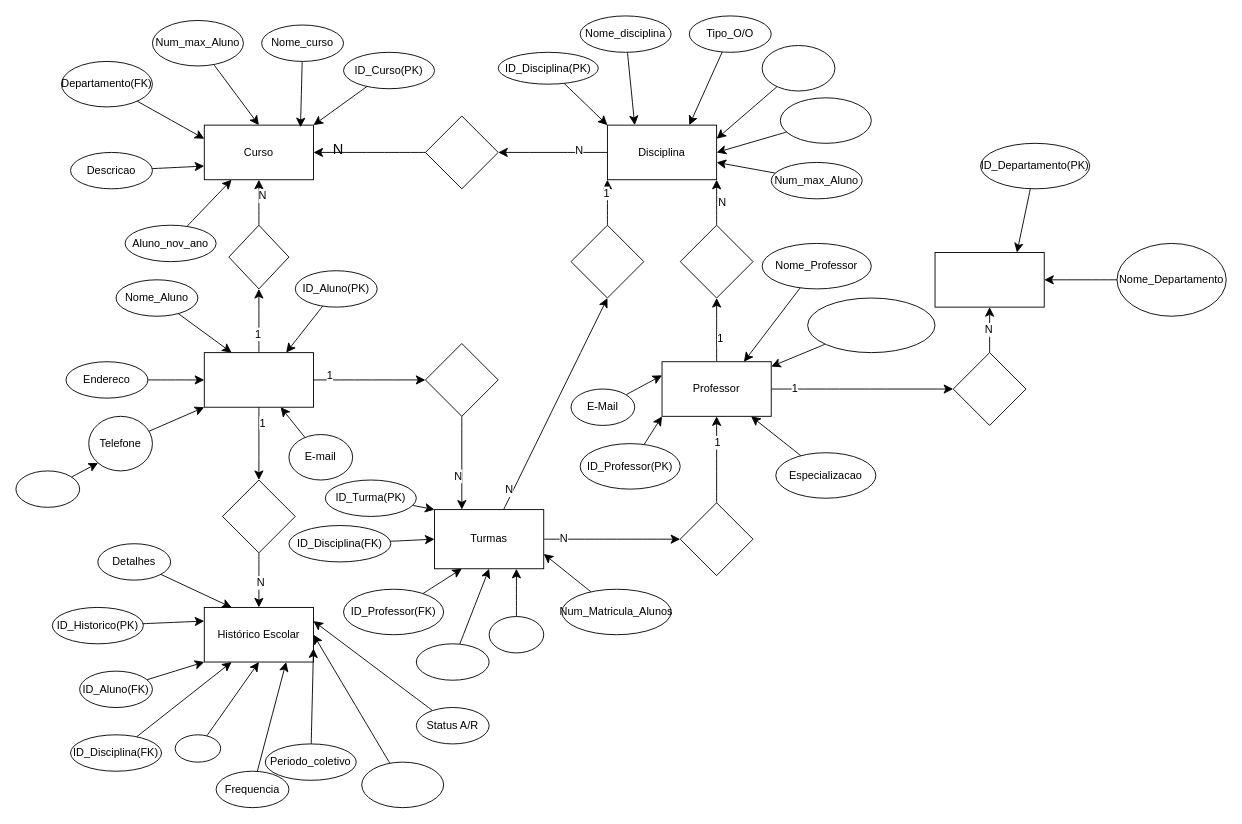
Image size: 1242x824. Some labels were removed from this diagram. Each missing label, with the box of its shape:
Aluno: (203, 352, 313, 407)
Ano_letivo: (361, 761, 444, 808)
DDD: (15, 470, 80, 507)
Departamento: (934, 252, 1044, 307)
Hosrario: (415, 643, 489, 680)
ID_Curso(FK): (761, 45, 835, 91)
ID_Departamento: (779, 97, 871, 143)
ID_Departamento(FK): (807, 297, 935, 353)
Leciona: (679, 224, 753, 298)
Matricula: (425, 343, 498, 416)
Matriculado: (228, 224, 289, 289)
Nota: (174, 734, 221, 762)
Oferecida em: (570, 224, 644, 298)
Pertence: (425, 115, 498, 189)
Possui: (222, 479, 295, 553)
Sala: (488, 616, 544, 653)
Tem: (679, 502, 753, 576)
Vinculado: (952, 352, 1026, 425)
